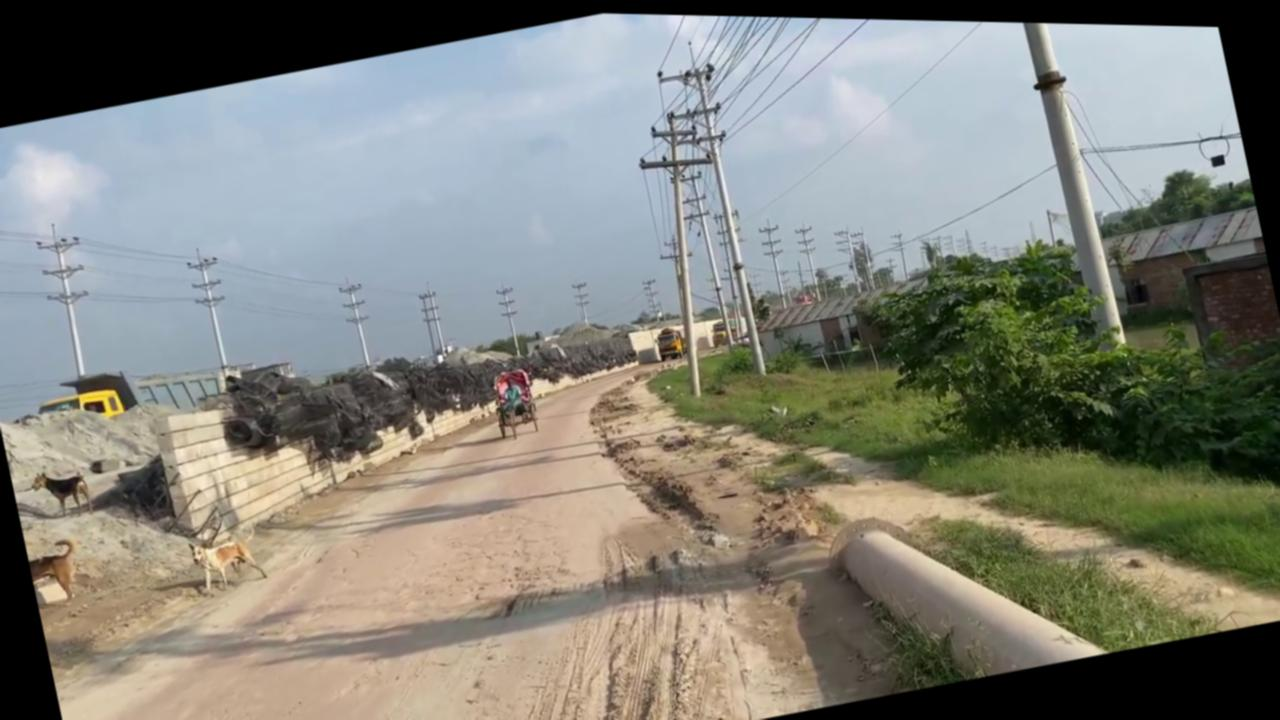Dog: (185, 521, 268, 596), (27, 461, 93, 524), (25, 535, 84, 605)
Garbage: (188, 287, 646, 492)
Muddy road: (17, 287, 1112, 720)
Pole: (818, 467, 1108, 700), (1000, 17, 1127, 352), (680, 34, 776, 375)
Tree: (626, 305, 745, 367), (34, 384, 124, 431), (626, 318, 685, 365), (707, 310, 746, 345)
